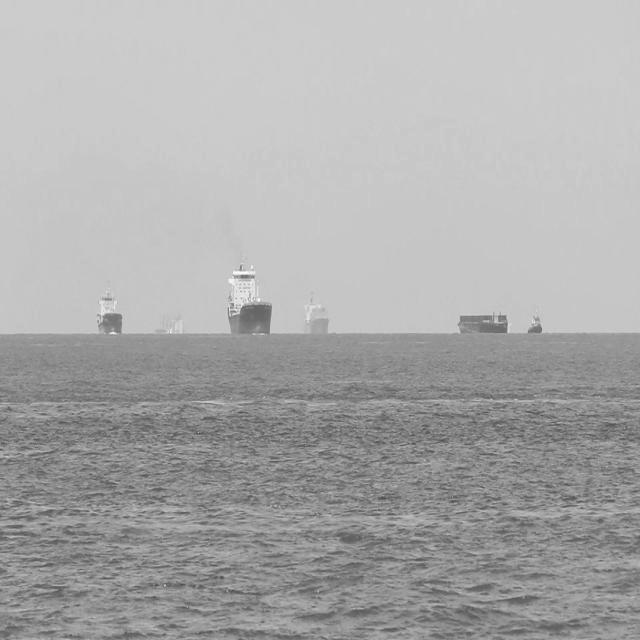ship: (224, 245, 276, 336), (456, 300, 514, 333), (96, 274, 125, 337), (302, 283, 334, 337), (526, 308, 548, 336)
